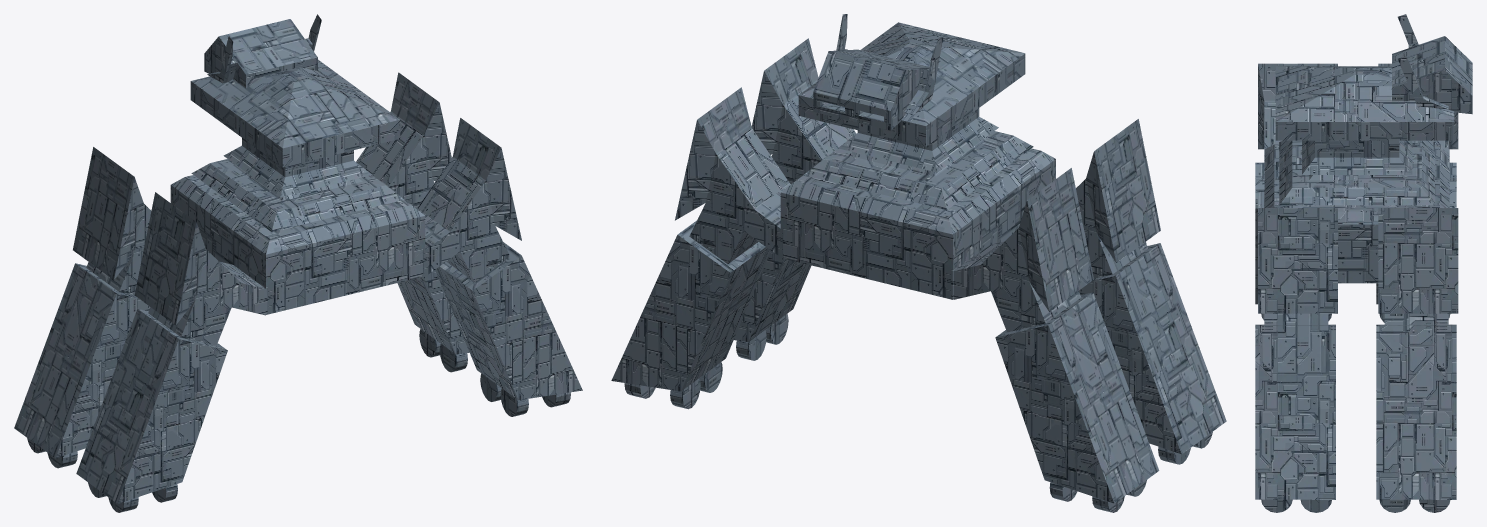
File: 5LegMT.gltf
3 views of the same model, side by side, from view 1: azimuth 30°, elevation 25°; view 2: azimuth 150°, elevation 25°; view 3: azimuth 270°, elevation 25° (orthographic). The views are drawn at different scales.
Visible parts, largest first — view 1: Body; view 2: Body; view 3: Body.
Part boxes in pixels (bbox=[...]): Body: bbox=[14, 14, 582, 512]; Body: bbox=[611, 14, 1226, 512]; Body: bbox=[1255, 14, 1472, 512].
Size of the model in its own units: 12.94 by 10.2 by 5.39.
Materials: 1 (1 with a texture image).
